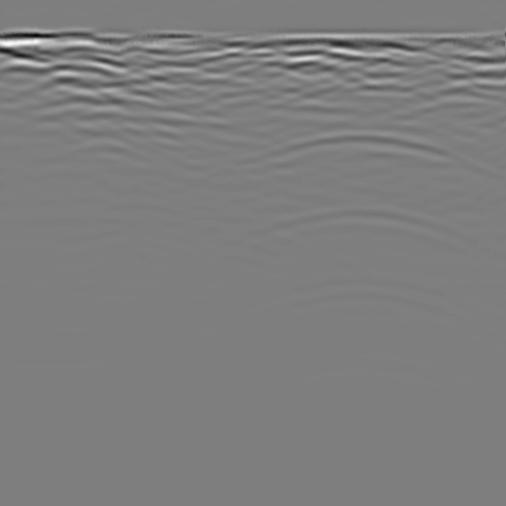hyperbola: (227, 122, 490, 251)
